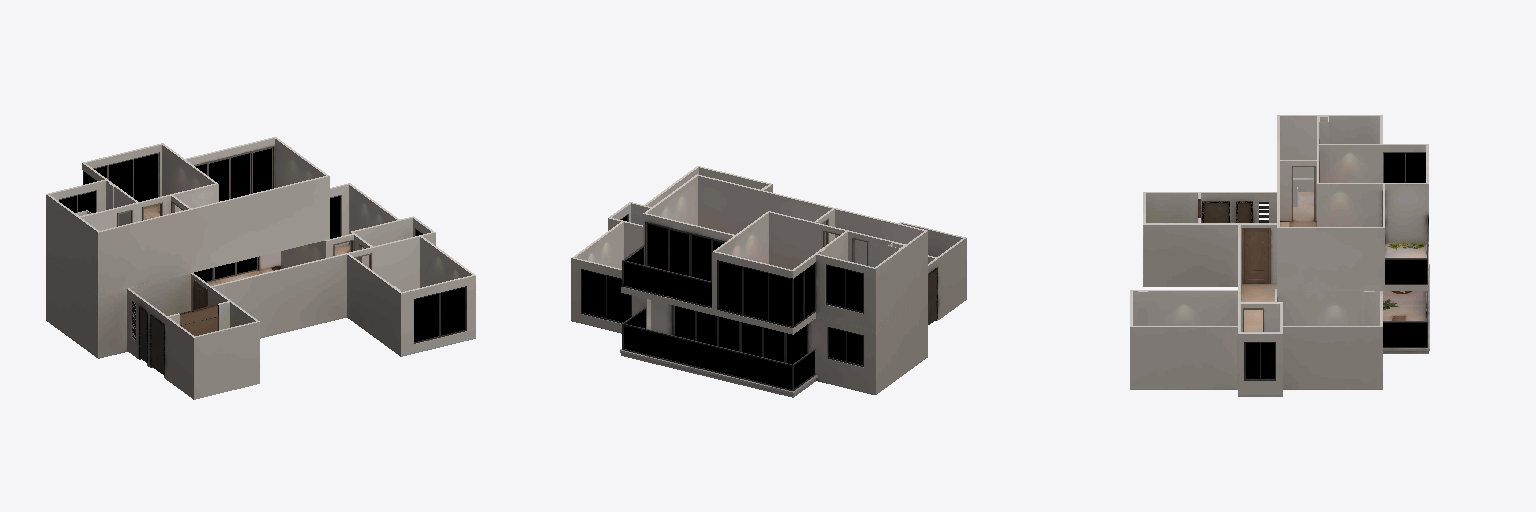
The picture shows the model from 3 angles: view 1: azimuth 30°, elevation 25°; view 2: azimuth 150°, elevation 25°; view 3: azimuth 270°, elevation 25°; orthographic projection.
Parts seen in each view (by area): view 1: SM_y2_1_1f_qs_01, SM_y2_1_2f_qs_00, SM_y2_1_1f_qs_02, SM_y2_1_2f_qs_glass, SM_y2_1_1f_glass, SM_y2_1_2f_qs_04, SM_y2_1_1f_qs_04, SM_y2_1_2f_qs_02, SM_y2_1_2f_qs_03, SM_y2_1_1f_qs_03, SM_y2_1_1f_qs_05; view 2: SM_y2_1_1f_qs_01, SM_y2_1_1f_glass, SM_y2_1_2f_qs_glass, SM_y2_1_2f_qs_00, SM_y2_1_2f_qs_04, SM_y2_1_2f_qs_03, SM_y2_1_2f_qs_02, SM_y2_1_1f_qs_04, SM_y2_1_1f_qs_03, SM_y2_1_1f_qs_02; view 3: SM_y2_1_1f_qs_01, SM_y2_1_2f_qs_00, SM_y2_1_1f_qs_02, SM_y2_1_2f_qs_04, SM_y2_1_2f_qs_02, SM_y2_1_1f_qs_03, SM_y2_1_1f_qs_04, SM_y2_1_2f_qs_03, SM_y2_1_1f_qs_00, SM_y2_1_2f_qs_glass, SM_y2_1_1f_glass, SM_y2_1_2f_qs_01 (+1 smaller).
Boxes of the visible parts, box(x1,y1,x2,y2) form: SM_y2_1_1f_qs_01: box(46, 183, 475, 399); SM_y2_1_2f_qs_00: box(46, 137, 329, 295); SM_y2_1_1f_qs_02: box(350, 218, 471, 343); SM_y2_1_2f_qs_glass: box(59, 148, 271, 212); SM_y2_1_1f_glass: box(194, 196, 464, 341); SM_y2_1_2f_qs_04: box(171, 138, 325, 212); SM_y2_1_1f_qs_04: box(132, 256, 259, 375); SM_y2_1_2f_qs_02: box(49, 181, 188, 230); SM_y2_1_2f_qs_03: box(83, 145, 214, 220); SM_y2_1_1f_qs_03: box(330, 185, 396, 255); SM_y2_1_1f_qs_05: box(260, 235, 369, 269); SM_y2_1_1f_qs_01: box(571, 166, 966, 397); SM_y2_1_1f_glass: box(582, 216, 862, 389); SM_y2_1_2f_qs_glass: box(624, 224, 862, 326); SM_y2_1_2f_qs_00: box(621, 174, 927, 334); SM_y2_1_2f_qs_04: box(645, 176, 831, 281); SM_y2_1_2f_qs_03: box(621, 212, 844, 327); SM_y2_1_2f_qs_02: box(816, 209, 923, 313); SM_y2_1_1f_qs_04: box(620, 267, 937, 396); SM_y2_1_1f_qs_03: box(575, 222, 863, 366); SM_y2_1_1f_qs_02: box(612, 167, 768, 224); SM_y2_1_1f_qs_01: box(1130, 178, 1428, 396); SM_y2_1_2f_qs_00: box(1277, 115, 1428, 290); SM_y2_1_1f_qs_02: box(1133, 291, 1279, 380); SM_y2_1_2f_qs_04: box(1280, 161, 1382, 226); SM_y2_1_2f_qs_02: box(1280, 116, 1379, 177); SM_y2_1_1f_qs_03: box(1277, 291, 1379, 325); SM_y2_1_1f_qs_04: box(1198, 199, 1429, 352); SM_y2_1_2f_qs_03: box(1319, 145, 1428, 289); SM_y2_1_1f_qs_00: box(1241, 284, 1425, 331); SM_y2_1_2f_qs_glass: box(1384, 153, 1426, 283); SM_y2_1_1f_glass: box(1246, 323, 1426, 378); SM_y2_1_2f_qs_01: box(1280, 192, 1425, 257).
Size of the model in its own units: 549 by 209 by 449.
Materials: 16 (11 with a texture image).